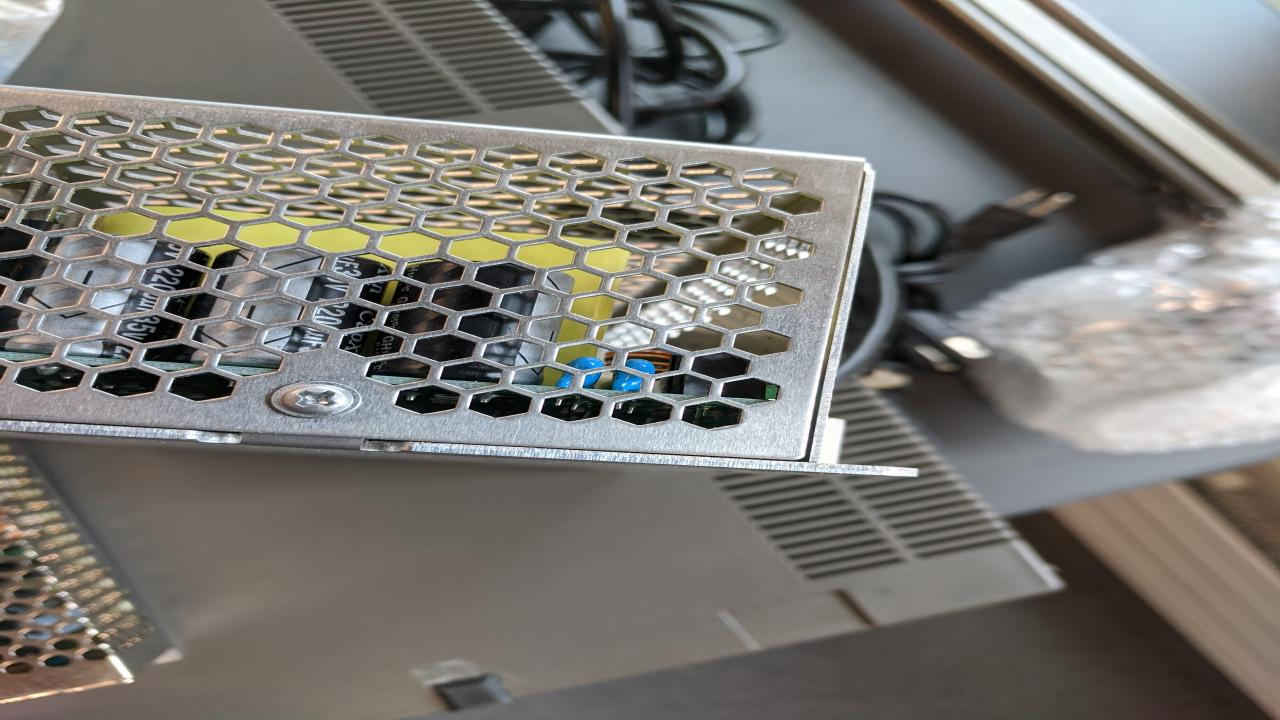CRS: (281, 383, 355, 417)
